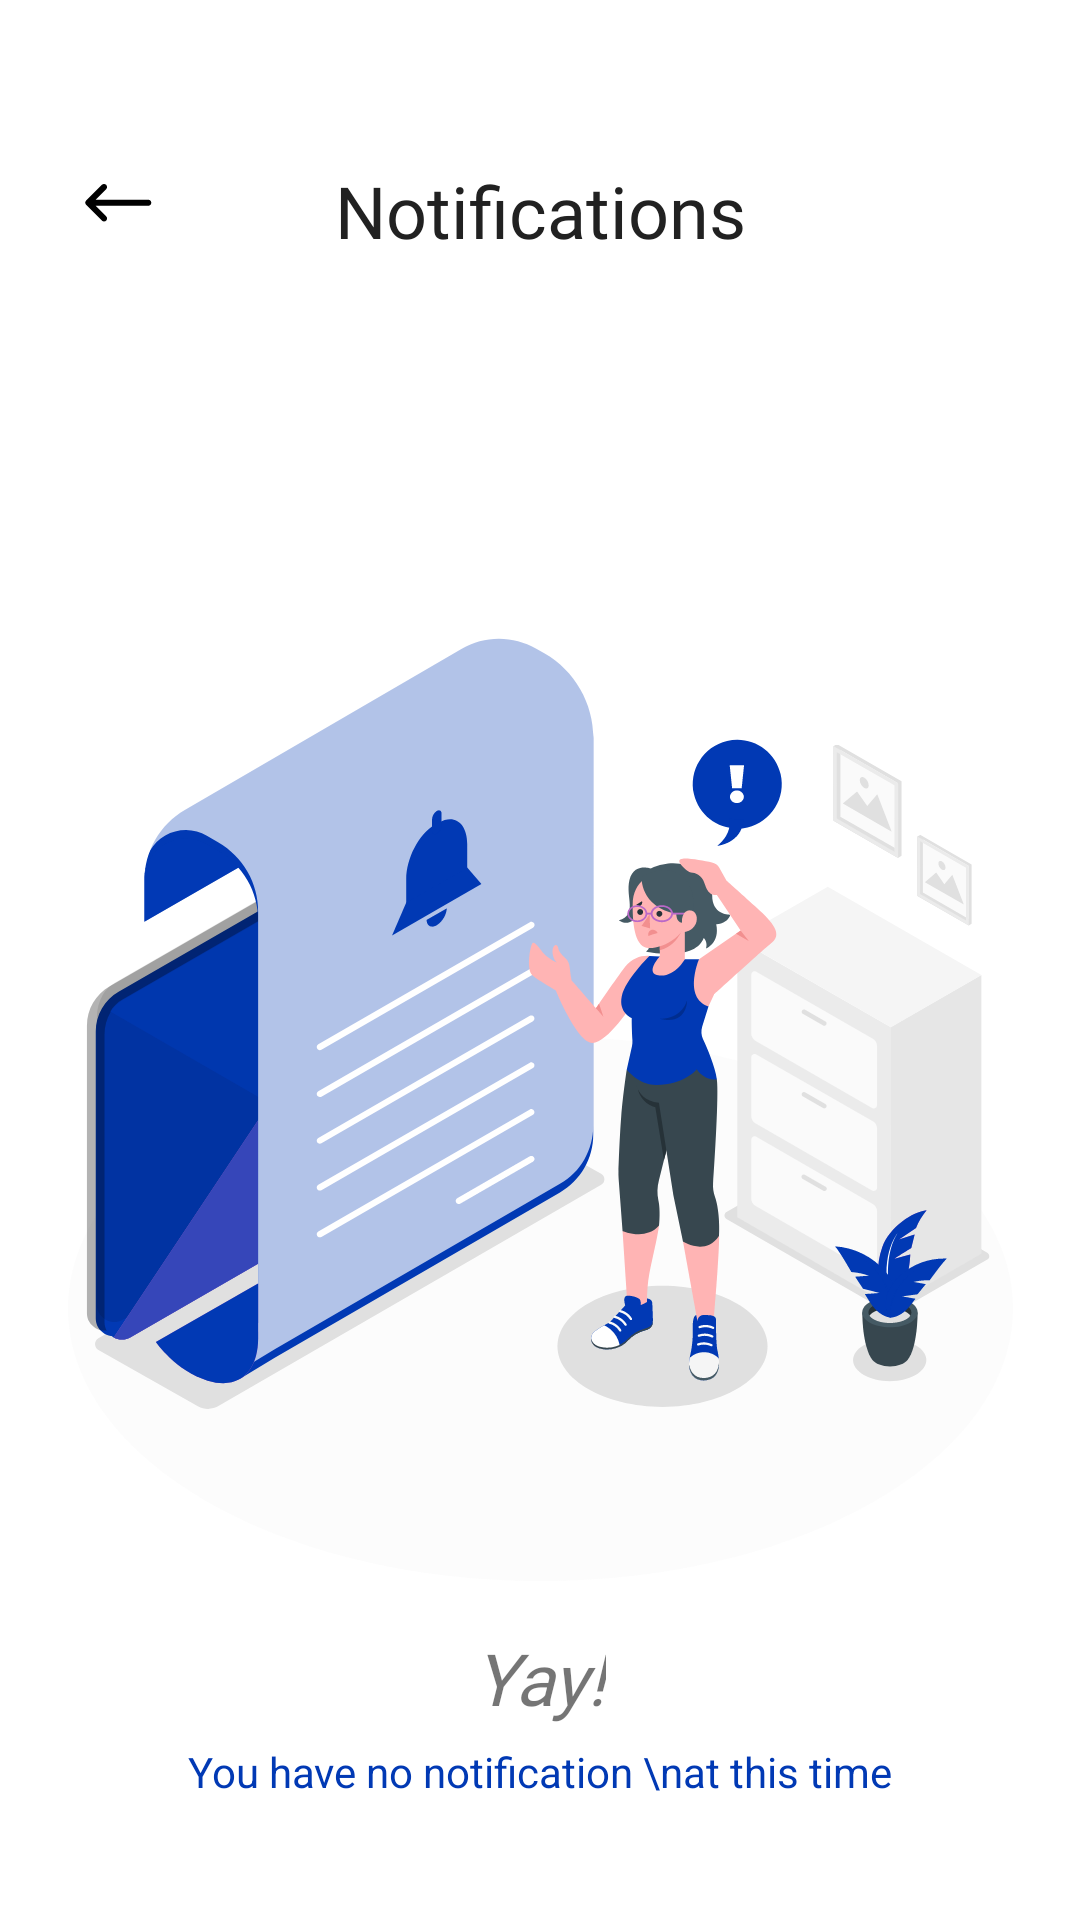

Locate icon controls on the screen. Image size 1080px x 1920px, boxes as (x1, y1, x2, y2).
back: (85, 184, 152, 222)
